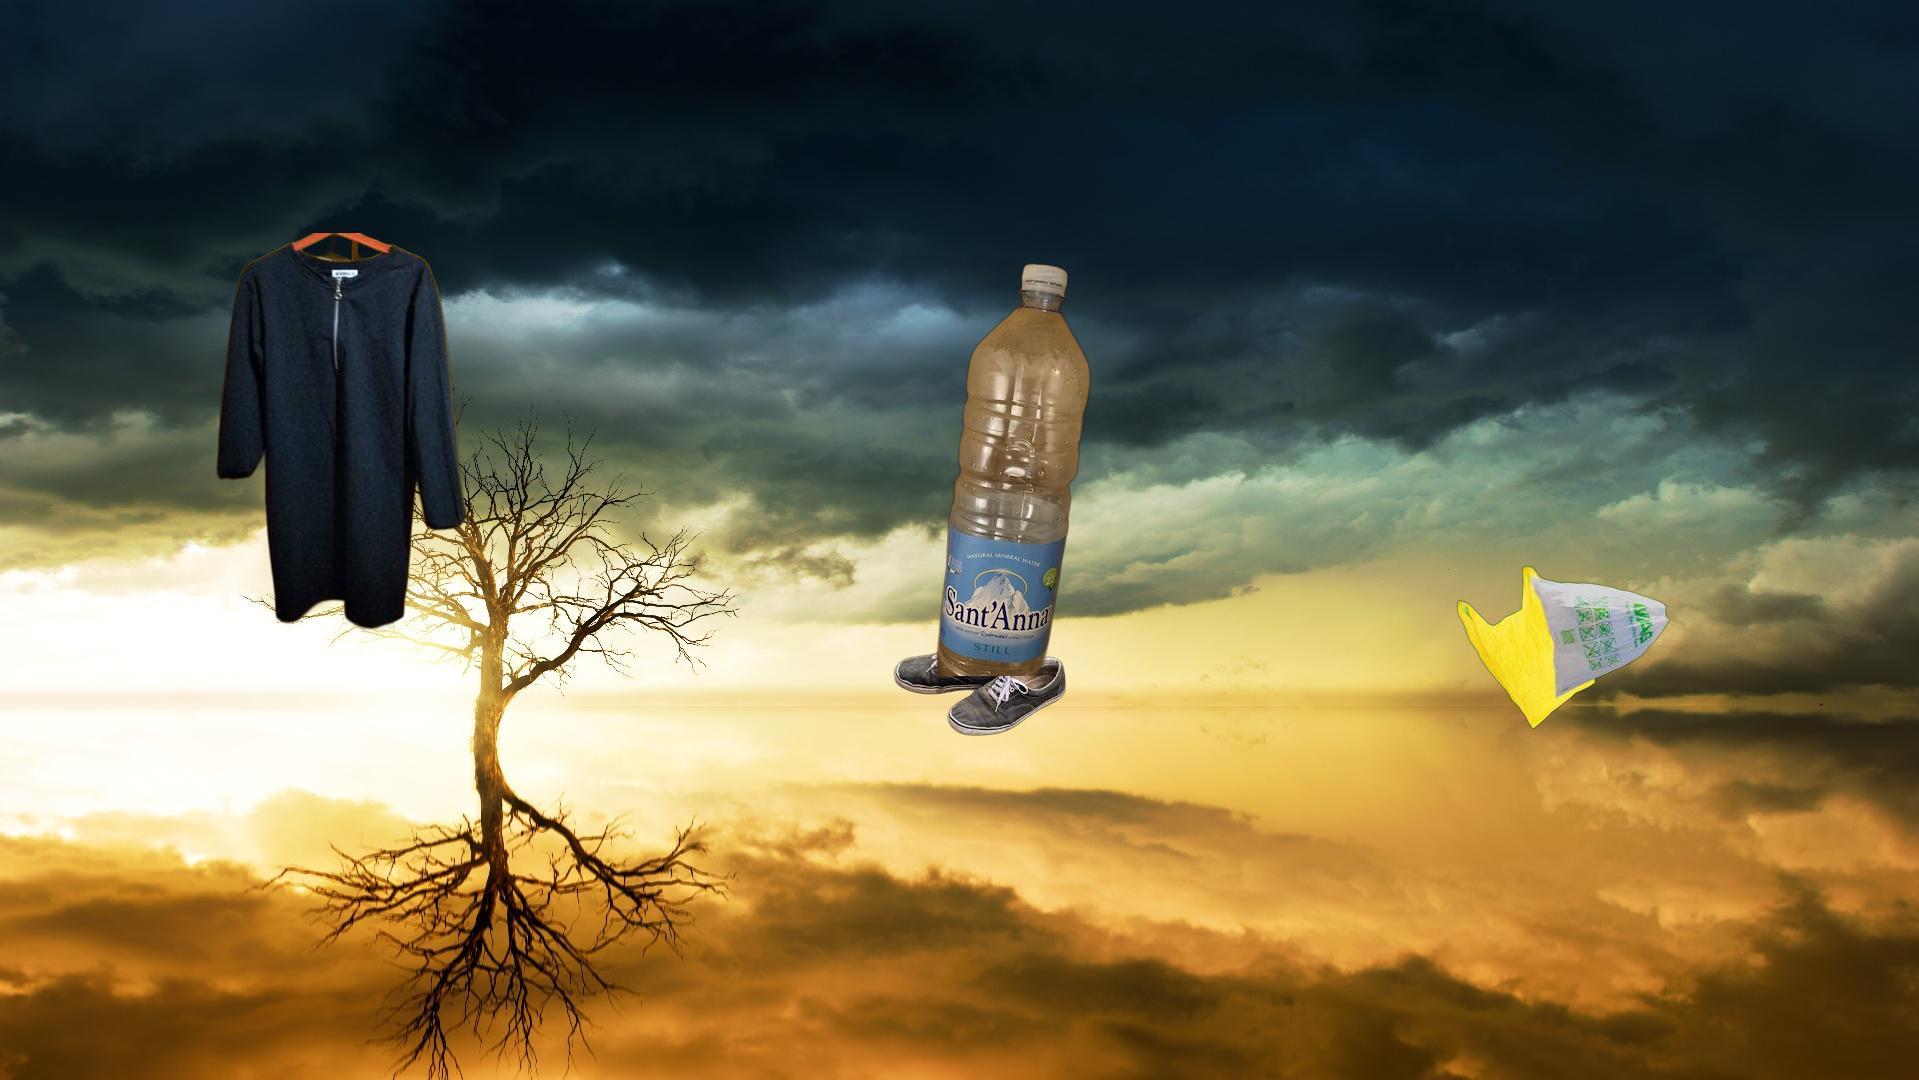clothes: (170, 233, 471, 633)
plastic-bag: (1454, 563, 1673, 732)
plastic-bottles: (933, 260, 1094, 676)
shoes: (894, 636, 1068, 738)
